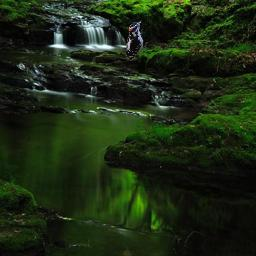Woodpecker: (126, 20, 148, 61)
